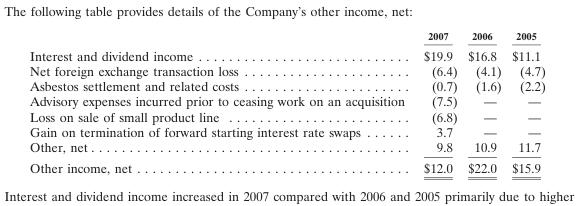table: (29, 29, 544, 175)
table column: (29, 29, 413, 175), (413, 29, 461, 175), (461, 29, 505, 175), (505, 29, 544, 175)
table column header: (29, 29, 544, 44)
table row: (29, 44, 544, 62), (29, 139, 544, 157), (29, 157, 544, 175), (29, 77, 544, 93), (29, 123, 544, 139), (29, 29, 544, 44), (29, 62, 544, 77), (29, 93, 544, 108), (29, 108, 544, 123)
